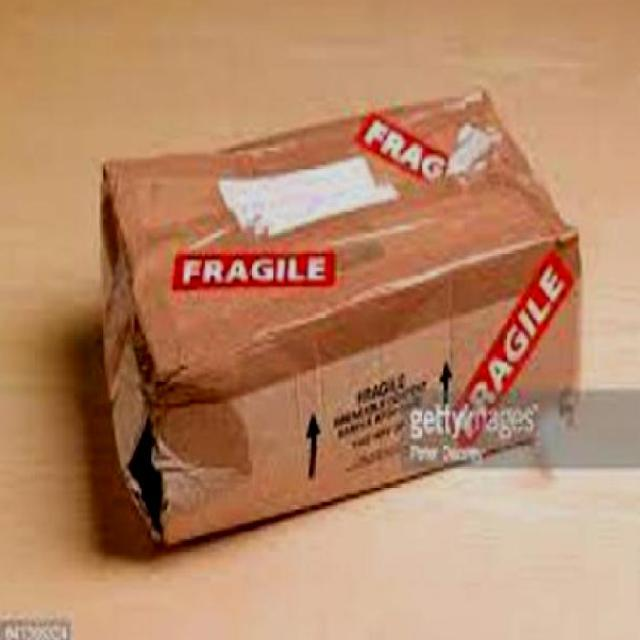box: (92, 87, 584, 545)
crushed: (229, 300, 532, 383), (174, 135, 304, 237)
opened: (124, 321, 184, 552)
